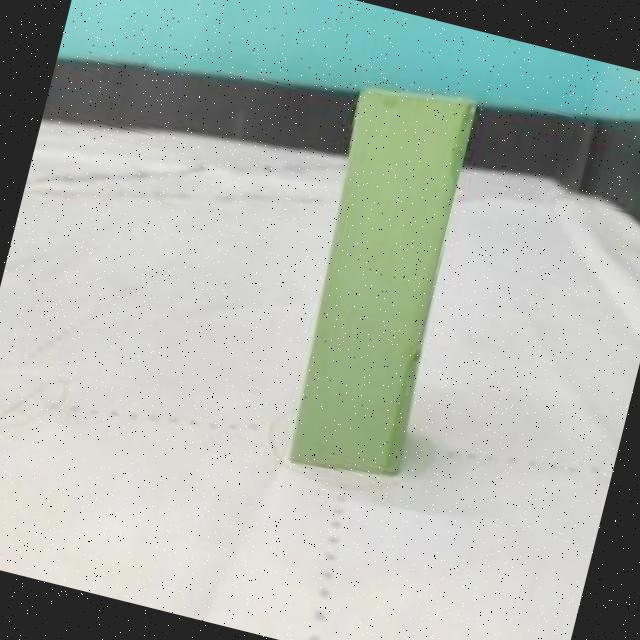greenbox: (266, 49, 491, 489)
